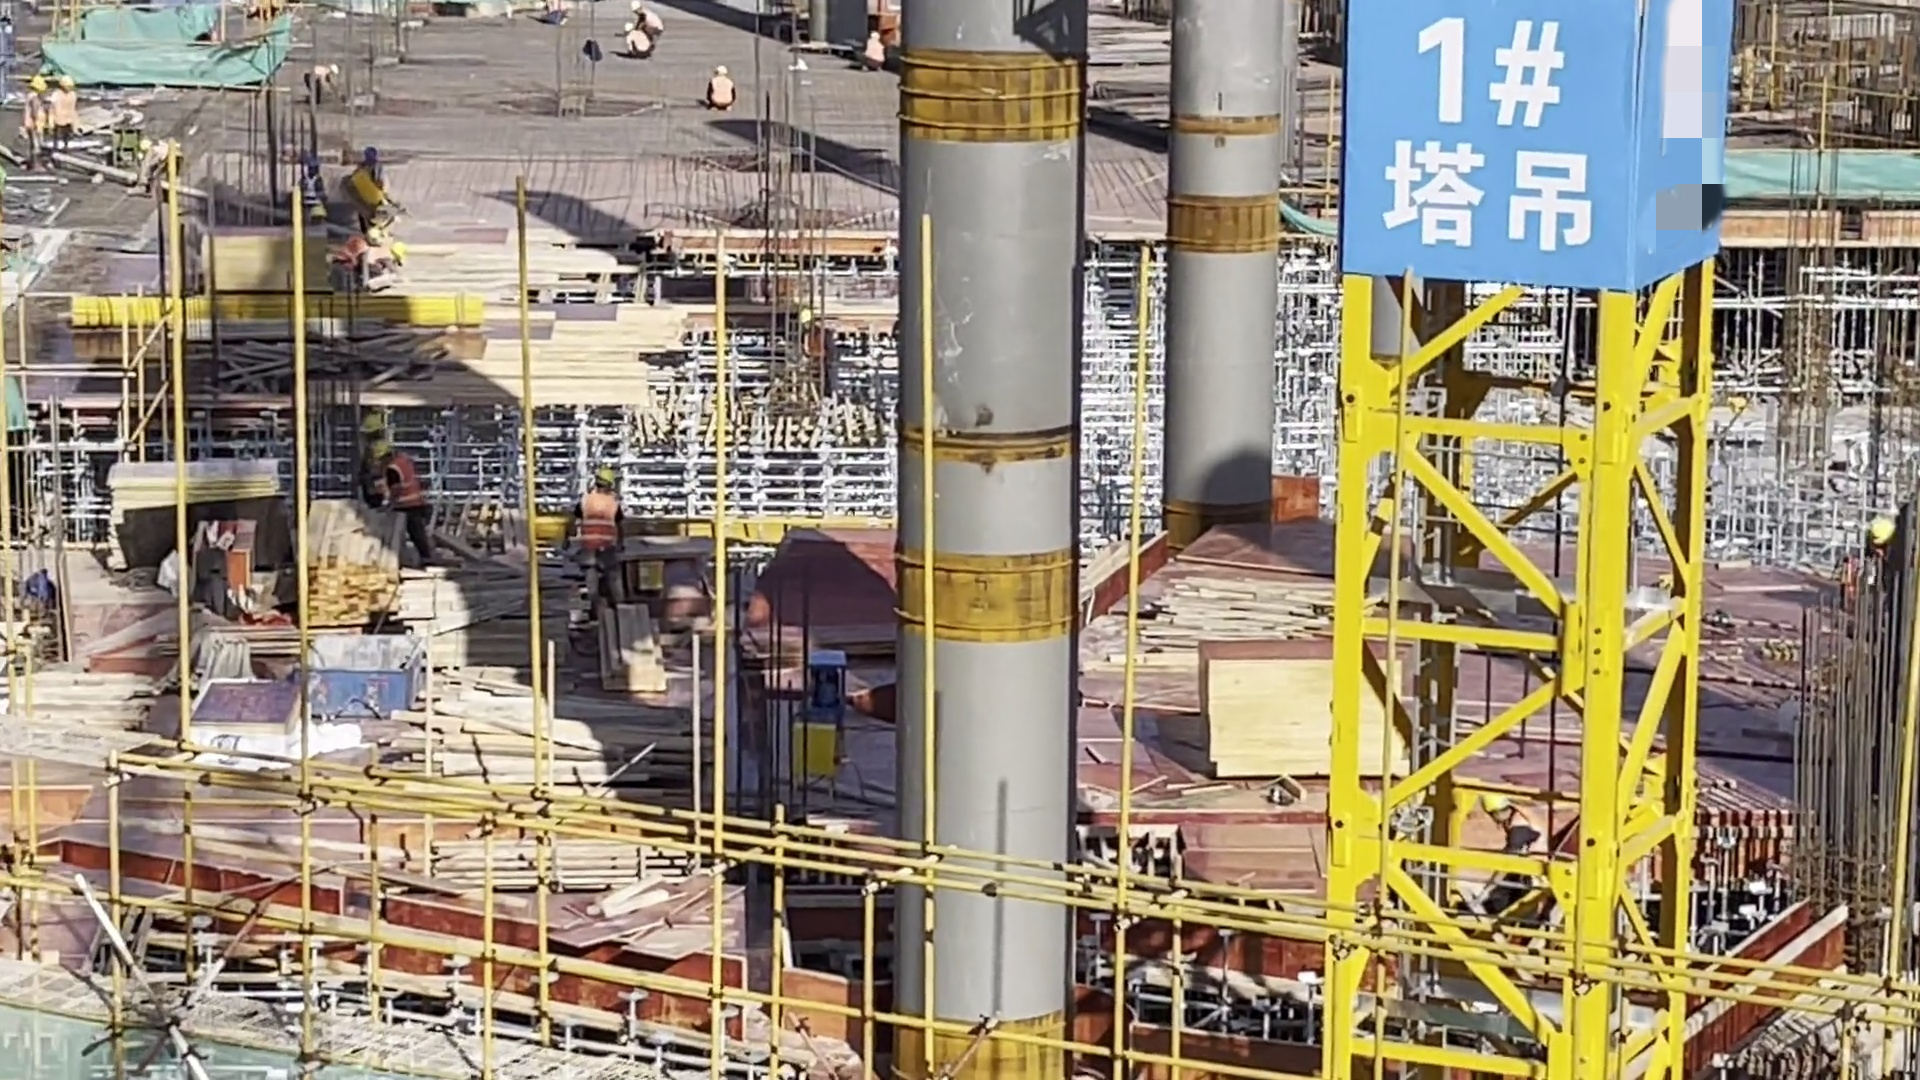board: (1198, 637, 1425, 802), (94, 461, 279, 576), (201, 224, 338, 297)
helmet: (587, 464, 622, 496), (359, 409, 384, 433), (376, 441, 394, 464), (30, 74, 48, 94), (57, 76, 77, 94), (326, 61, 342, 79), (711, 65, 730, 75)
hopper: (298, 634, 425, 724)
person: (569, 468, 630, 622), (376, 438, 427, 573), (309, 231, 386, 305), (347, 139, 396, 255), (355, 406, 405, 506), (51, 69, 86, 158), (19, 66, 45, 173), (294, 61, 344, 112), (299, 153, 327, 237), (700, 63, 738, 118), (629, 4, 668, 52), (858, 26, 887, 77), (619, 19, 651, 62)
slogan: (1347, 1, 1732, 274)
vest: (573, 494, 626, 564), (387, 458, 423, 513), (338, 235, 369, 273), (52, 94, 79, 132), (298, 174, 324, 211), (706, 77, 732, 106), (863, 38, 885, 67)
wood: (412, 671, 712, 799), (298, 482, 391, 653), (594, 599, 667, 701)
